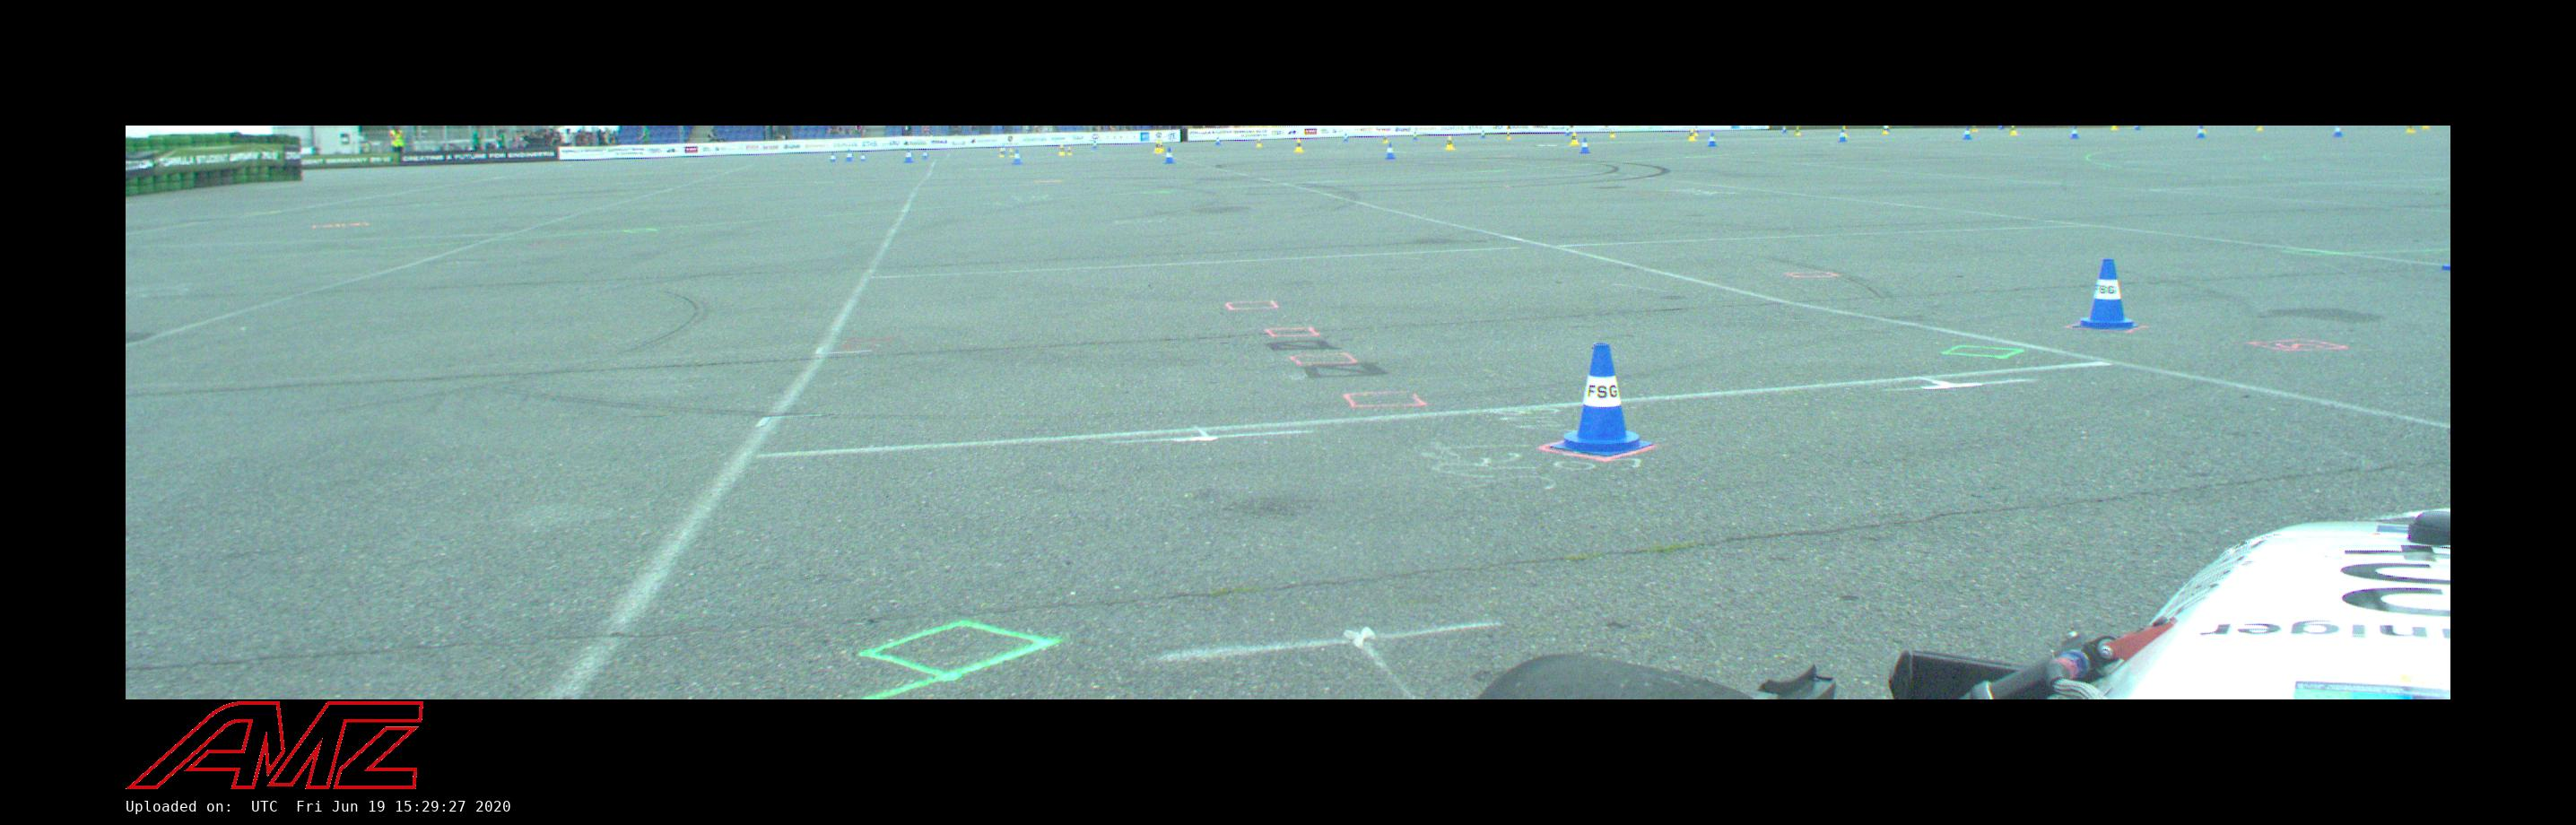blue_cone: (1551, 345, 1653, 457), (2073, 258, 2139, 330), (1579, 138, 1592, 154), (1383, 143, 1396, 159), (1163, 148, 1176, 164), (1705, 133, 1718, 146), (2196, 125, 2208, 138), (2331, 125, 2344, 136), (1012, 150, 1022, 164), (904, 150, 913, 164), (2070, 125, 2080, 140), (1962, 127, 1971, 140), (1838, 130, 1848, 143), (844, 150, 854, 161), (1254, 136, 1263, 146), (828, 151, 836, 163), (922, 150, 928, 161), (1781, 125, 1789, 133), (1091, 140, 1097, 150), (1342, 133, 1349, 143), (1411, 131, 1418, 141), (1564, 127, 1571, 136), (1214, 136, 1221, 145), (1480, 130, 1487, 138), (861, 153, 866, 161)
yellow_cone: (1442, 136, 1457, 151), (1567, 133, 1579, 145), (1295, 140, 1304, 153), (1153, 140, 1163, 153), (1058, 143, 1066, 156), (1881, 125, 1891, 135), (1687, 130, 1695, 141), (1794, 125, 1802, 136), (2009, 125, 2017, 135), (1608, 128, 1617, 138), (1382, 135, 1390, 143), (1505, 131, 1511, 141), (1066, 145, 1071, 156), (999, 146, 1004, 158), (1009, 148, 1014, 156)
